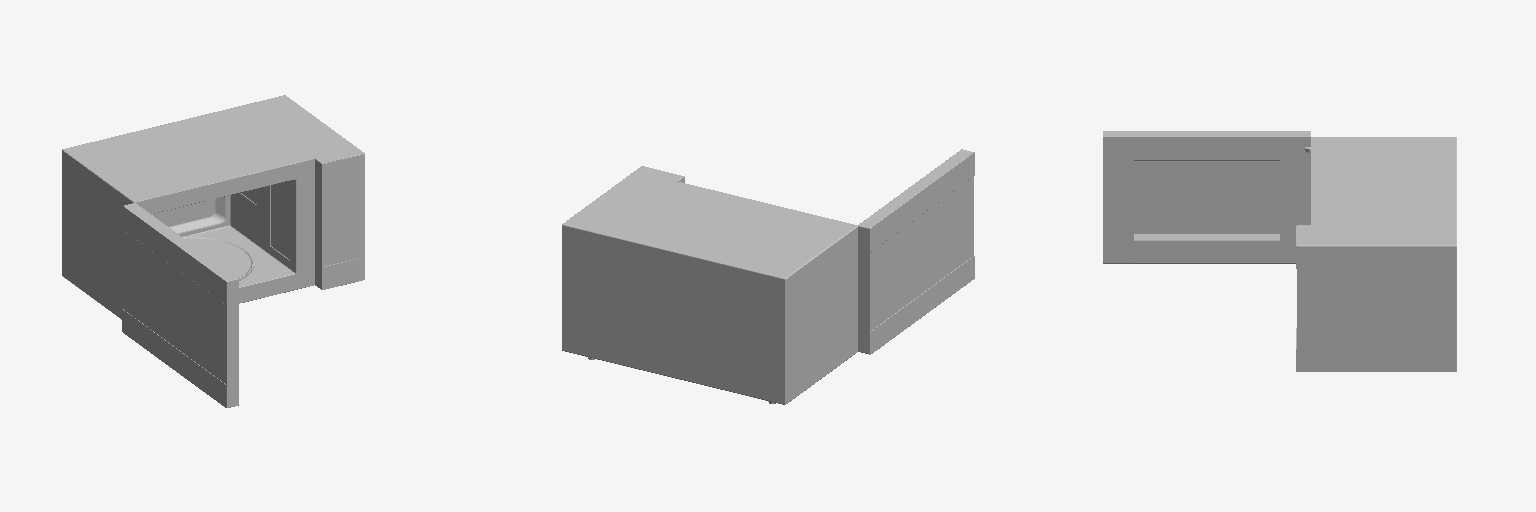
Rendered from Microwave.obj.
3 renders of one model, left to right at view 1: azimuth 30°, elevation 25°; view 2: azimuth 150°, elevation 25°; view 3: azimuth 270°, elevation 25°, orthographic.
Bounding box in the file's own units: 20.61 × 11.31 × 26.79.